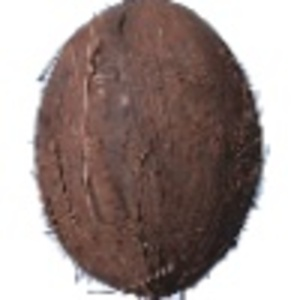coco: (35, 1, 271, 300)
